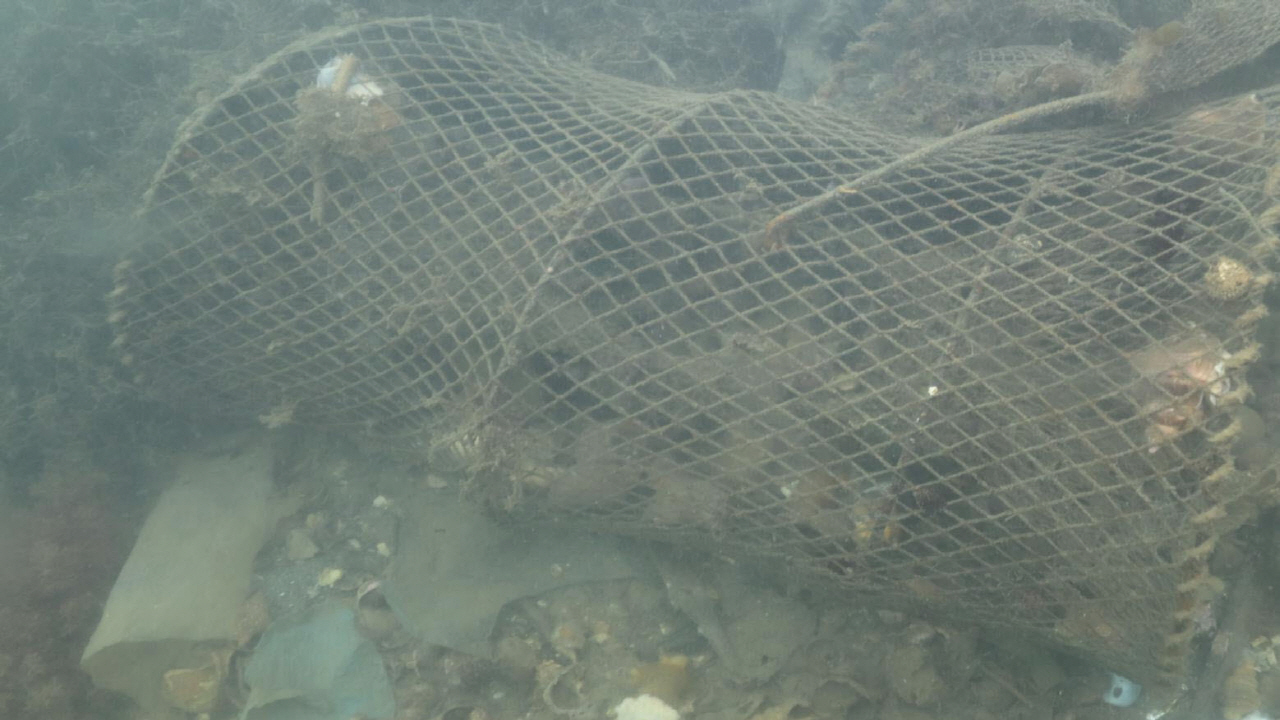spring fish trap: (100, 13, 1280, 703)
